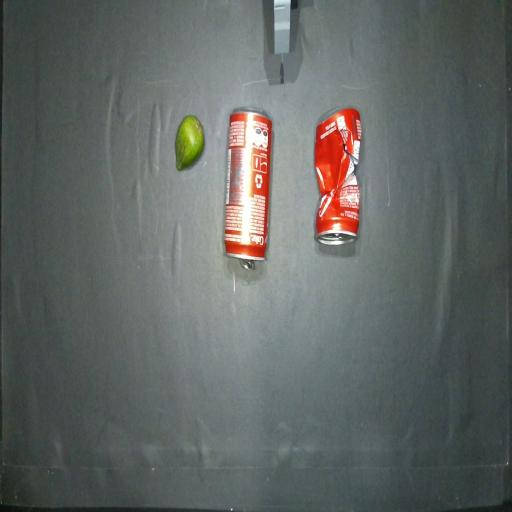higo: (175, 115, 204, 170)
lata: (224, 109, 272, 269)
lata_defectuoso: (315, 108, 362, 245)
